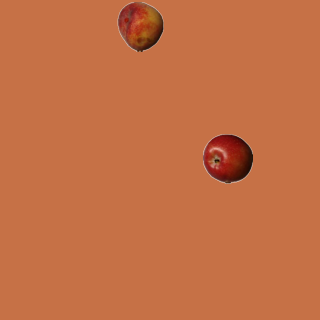Apple Braeburn: (202, 133, 252, 183)
Peach: (115, 1, 165, 51)
